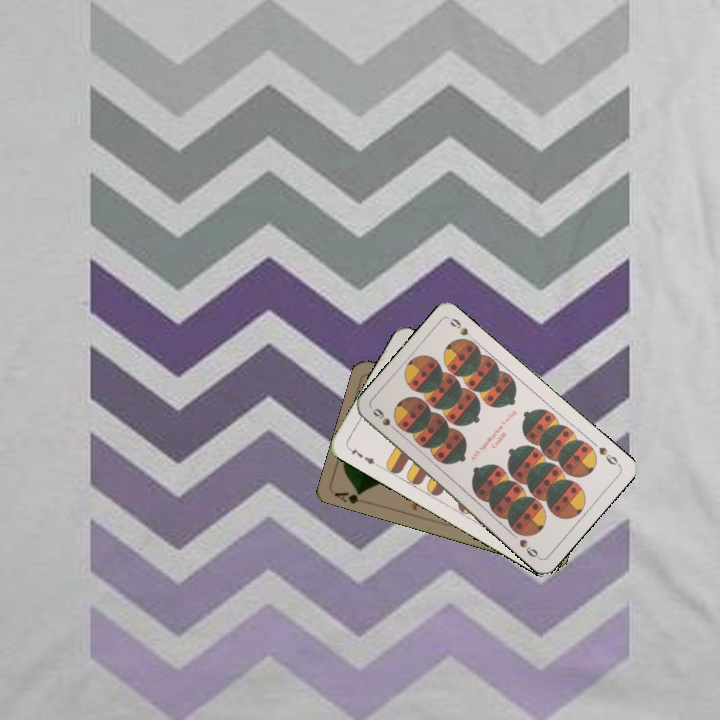E7: (344, 443, 381, 469)
GA: (331, 486, 365, 506)
S9: (368, 404, 402, 435), (595, 443, 622, 469)
